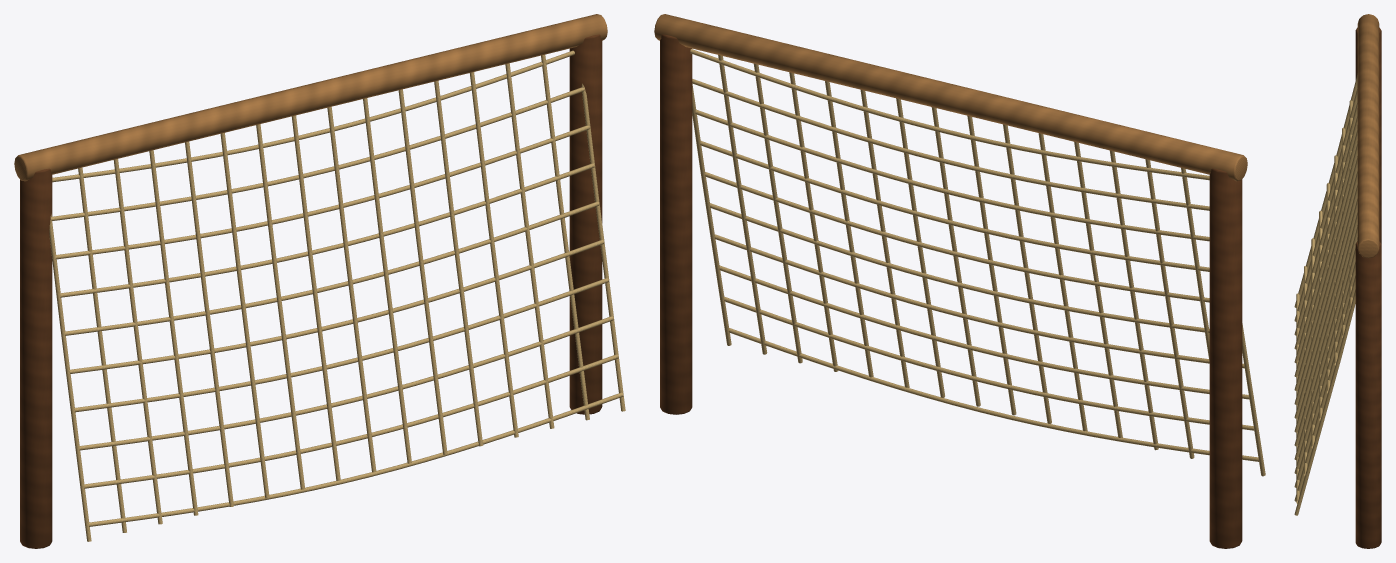
File: Fishing_Net.fbx
3 renders of one model, left to right at view 1: azimuth 30°, elevation 25°; view 2: azimuth 150°, elevation 25°; view 3: azimuth 270°, elevation 25°, orthographic. The views are drawn at different scales.
Visible parts, largest first — view 1: Fishing_Net; view 2: Fishing_Net; view 3: Fishing_Net.
Boxes of the visible parts, box(x1,y1,x2,y2) form: Fishing_Net: box(14, 14, 625, 548); Fishing_Net: box(654, 14, 1265, 548); Fishing_Net: box(1294, 14, 1381, 548).
Bounding box in the file's own units: 370 × 60.26 × 238.
